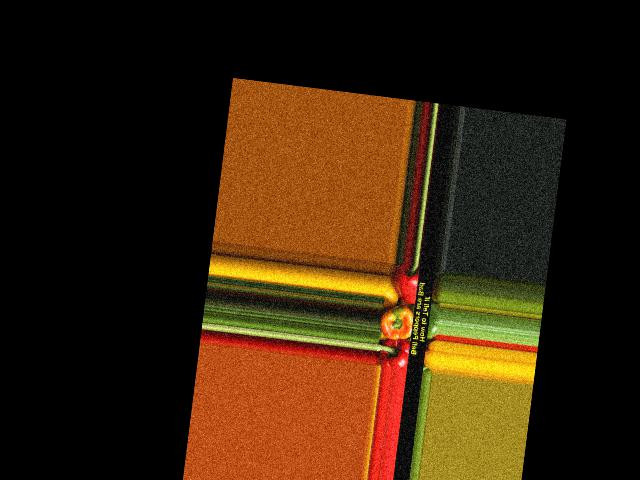bell_pepper: (374, 334, 412, 368)
